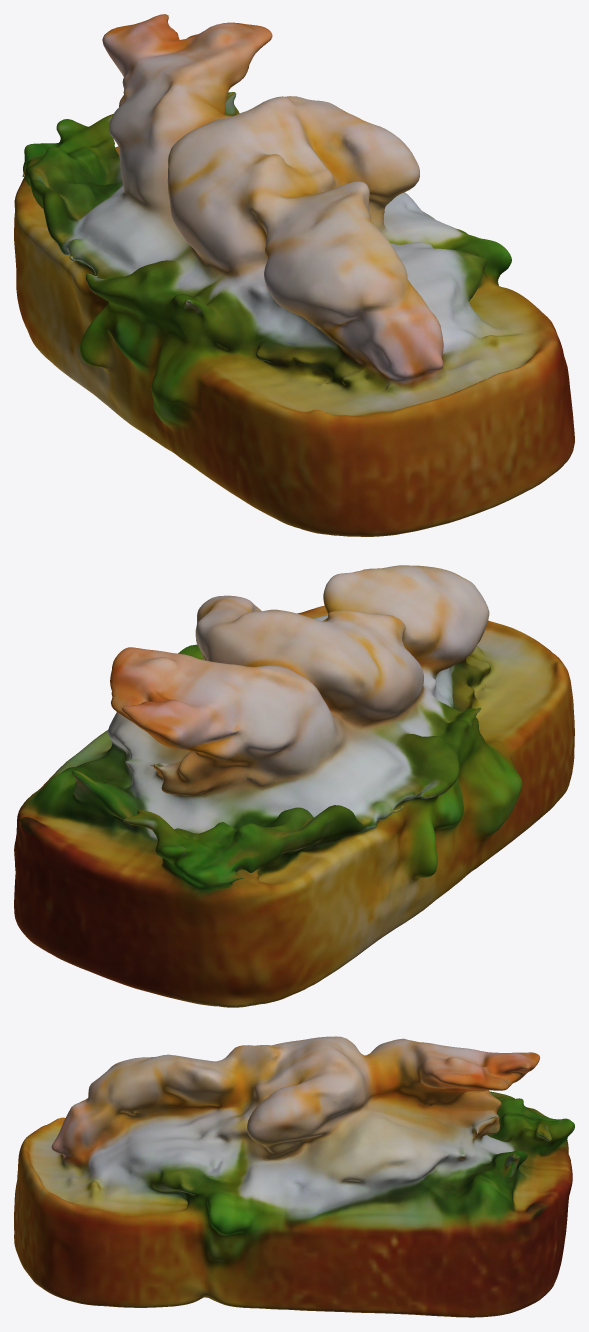
Rendered from c6200cb55511_Shrimp_Mayo_Toast__.fbx.
3 views of the same model, one above another, from view 1: azimuth 30°, elevation 25°; view 2: azimuth 150°, elevation 25°; view 3: azimuth 270°, elevation 25° (orthographic). The views are drawn at different scales.
Visible parts, largest first — view 1: high_poly; view 2: high_poly; view 3: high_poly.
Boxes of the visible parts, x1=… form: high_poly: x1=14, y1=14, x2=574, y2=536; high_poly: x1=14, y1=565, x2=574, y2=1007; high_poly: x1=14, y1=1036, x2=574, y2=1317.
Bounding box in the file's own units: 56.41 × 44.71 × 100.
